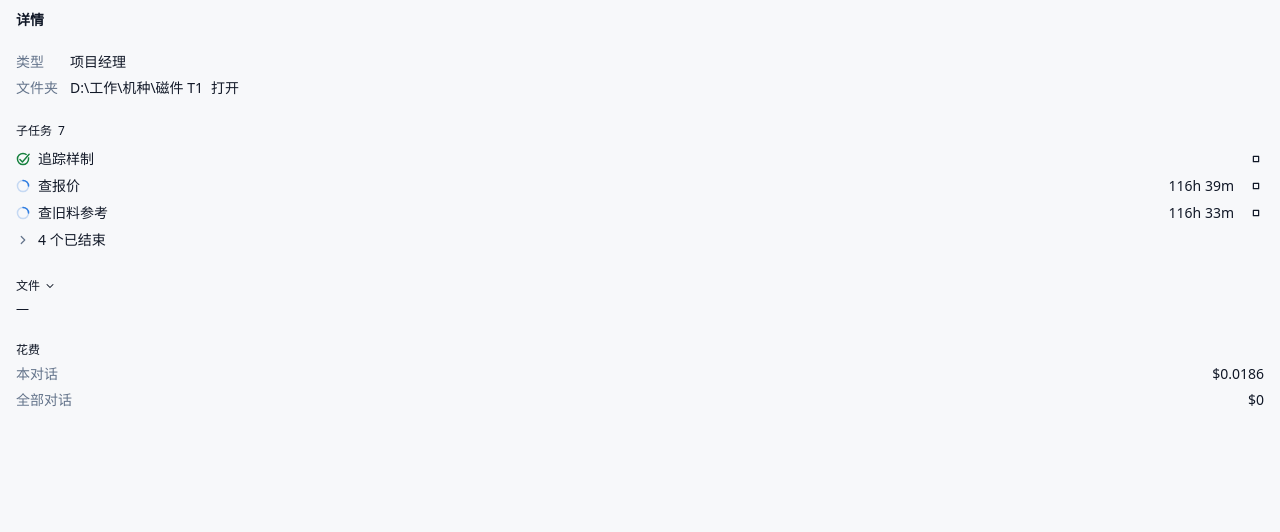
Test: 详情 › 子任务 › the going ones first (kept-for-later with them, nothing after its name), the ended ones folded under N 个已结束
The image size is (1280, 532).
Check: the text "整理规格书" is not shown
Click the button "4 个已结束".
click(72, 240)  # box [10, 226, 1270, 253]
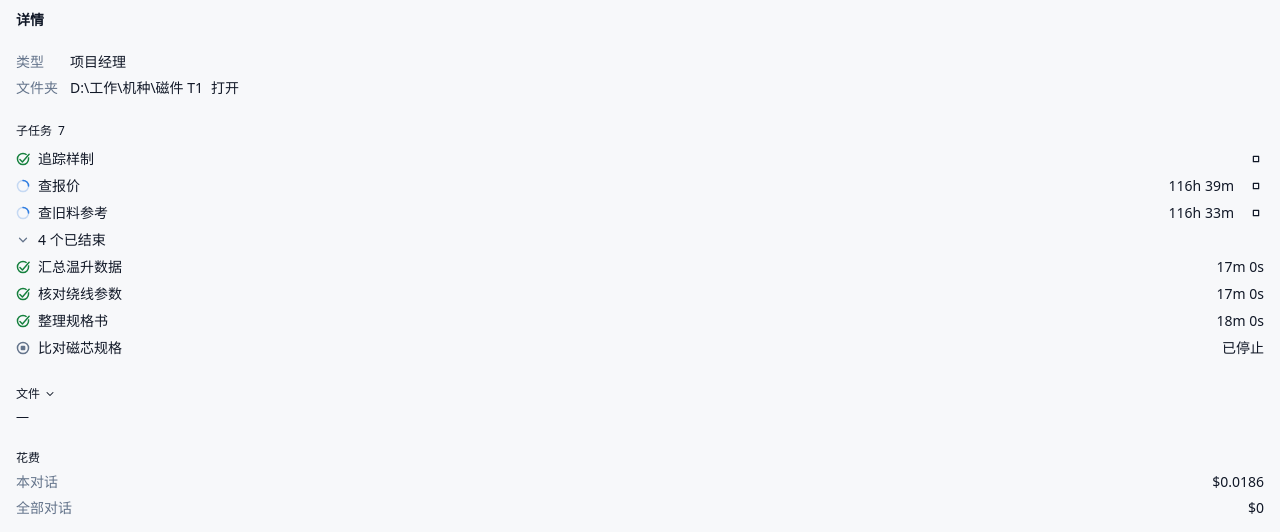
Check: the text "整理规格书" is shown, box [38, 311, 108, 330]
